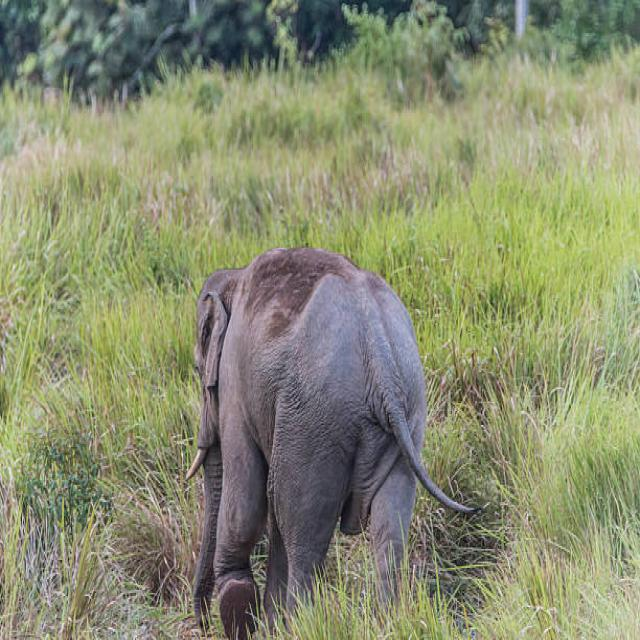Elephant: (176, 250, 460, 639)
